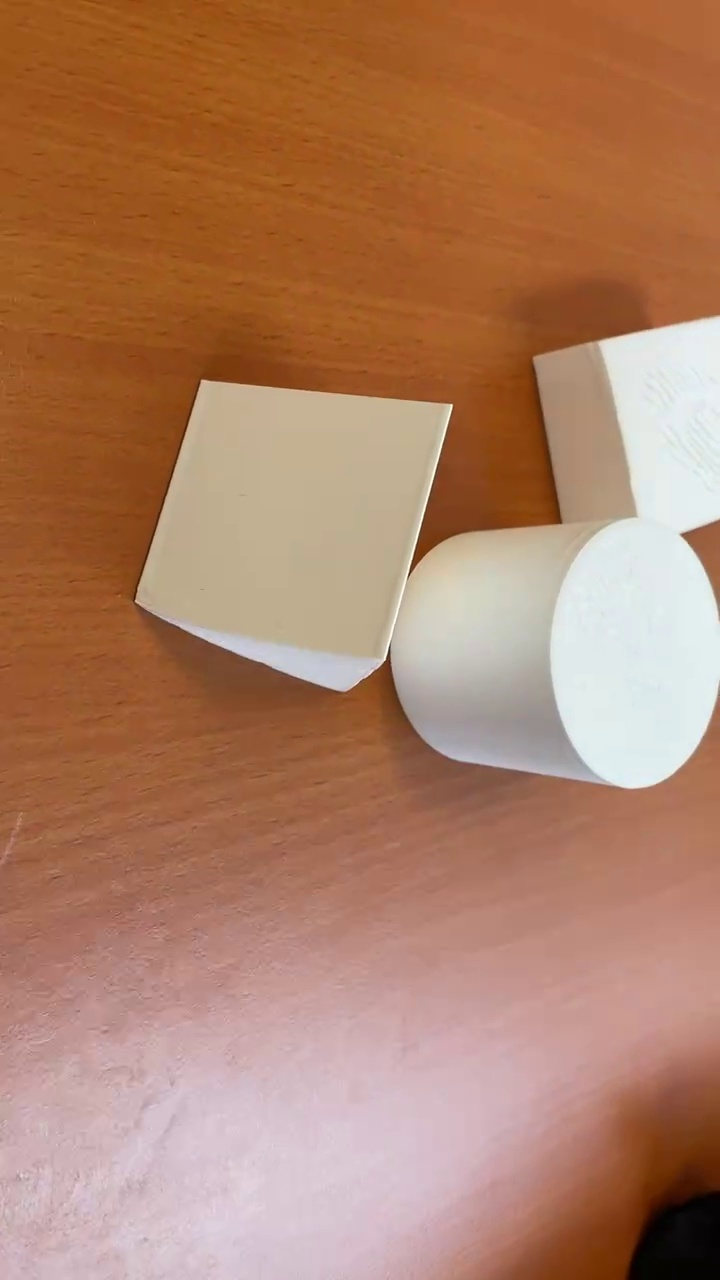Cube_short: (530, 307, 713, 534)
Cylinder: (383, 513, 715, 789)
Triangle: (130, 375, 452, 690)
